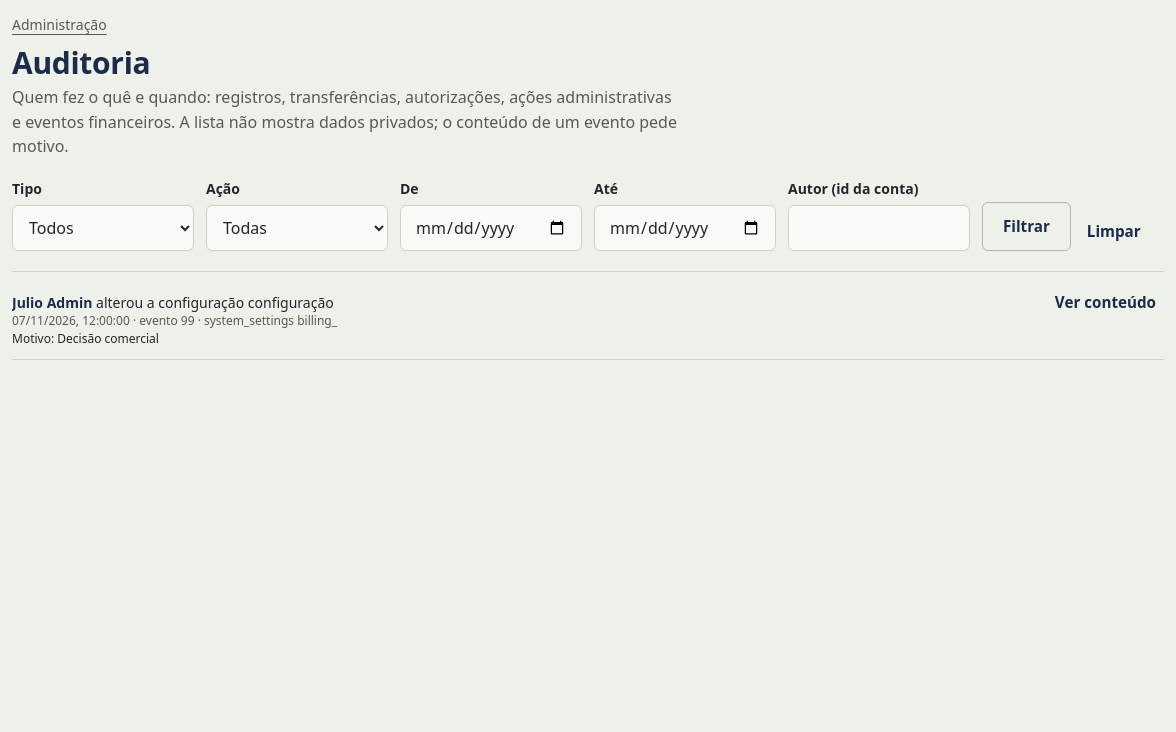
auditoria › lista com motivo e mostra o conteúdo só após informar motivo
Expected: the text "Motivo: Decisão comercial" is shown, [12, 330, 159, 347]
Expected: the text "Julio Admin" is shown, [12, 293, 92, 312]
Click the button "Ver conteúdo" at coordinates (1105, 303), box [1047, 284, 1164, 322]
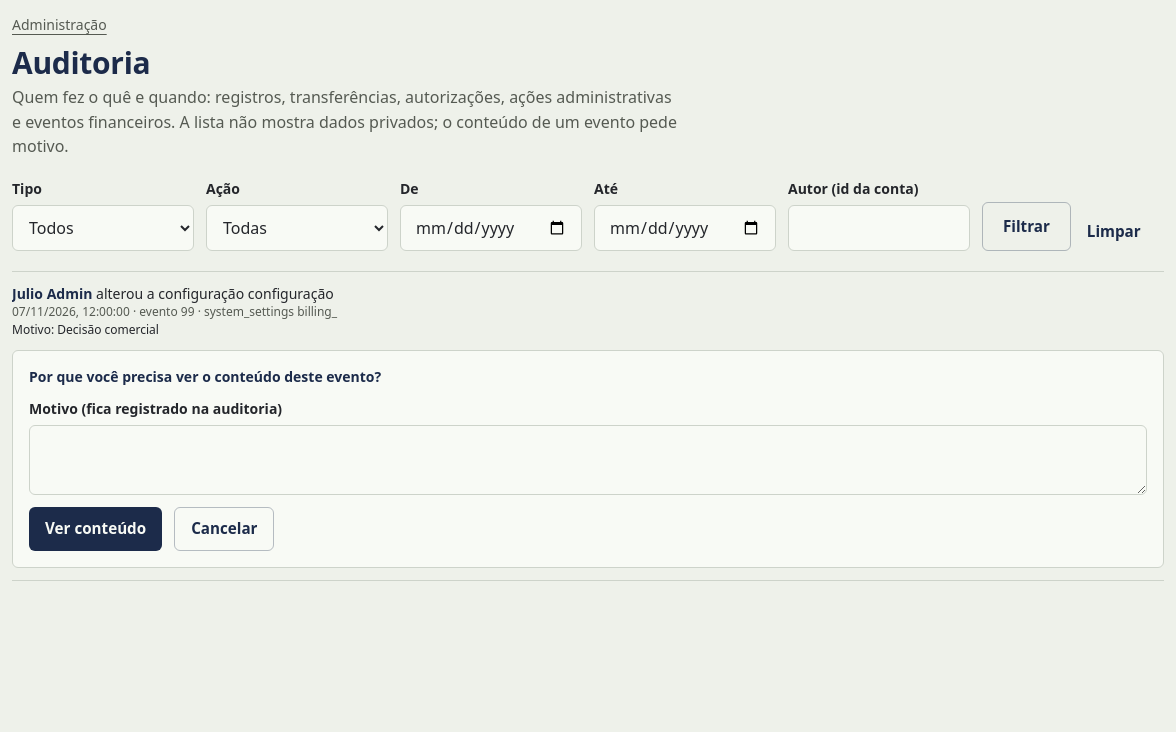
Type "Conferência de alteração comercial" into the text box labelled "Motivo (fica registrado na auditoria)" at coordinates (588, 460), box [29, 425, 1147, 495]
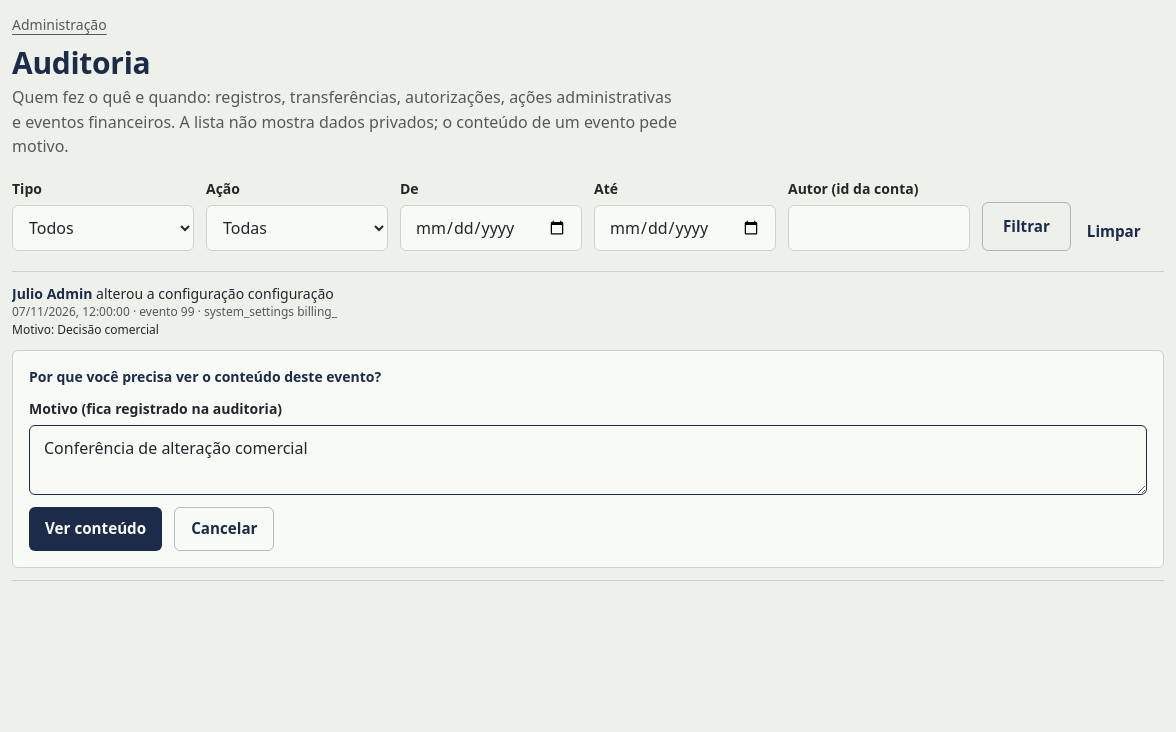
Click the button "Ver conteúdo" at coordinates (96, 529), box [29, 507, 162, 551]
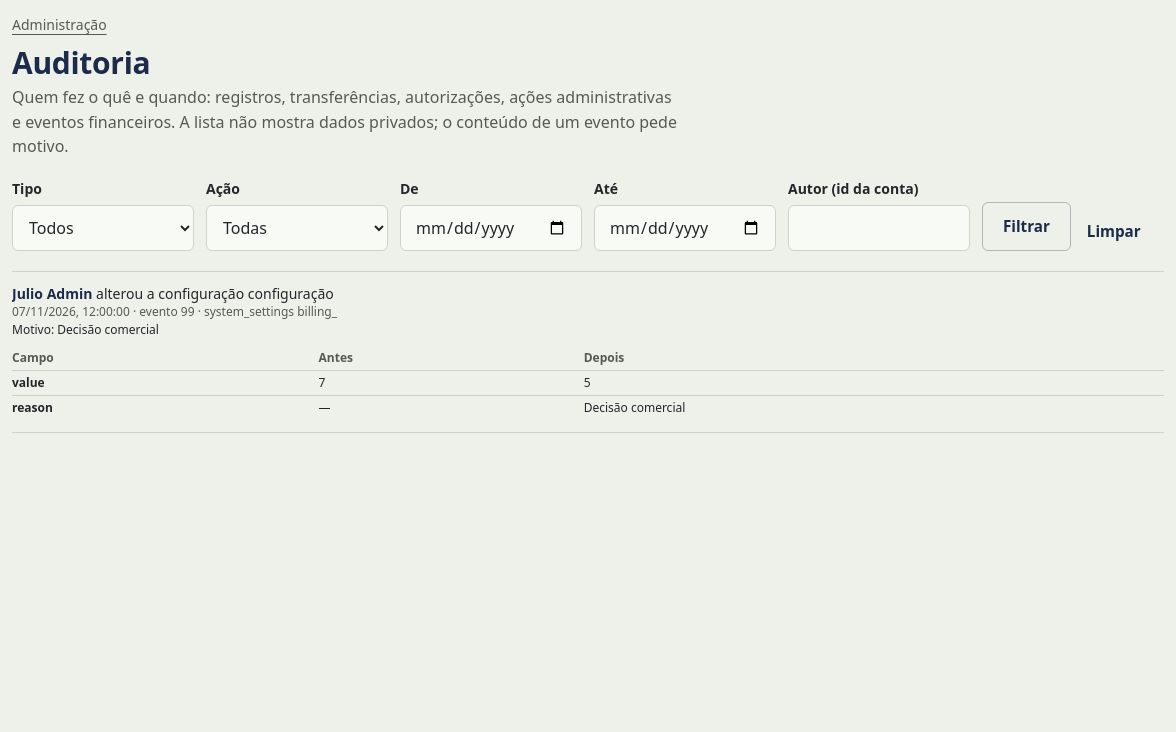
Result: the text "value" is shown at [12, 371, 319, 396]
Result: the text "5" is shown at [584, 371, 1164, 396]
